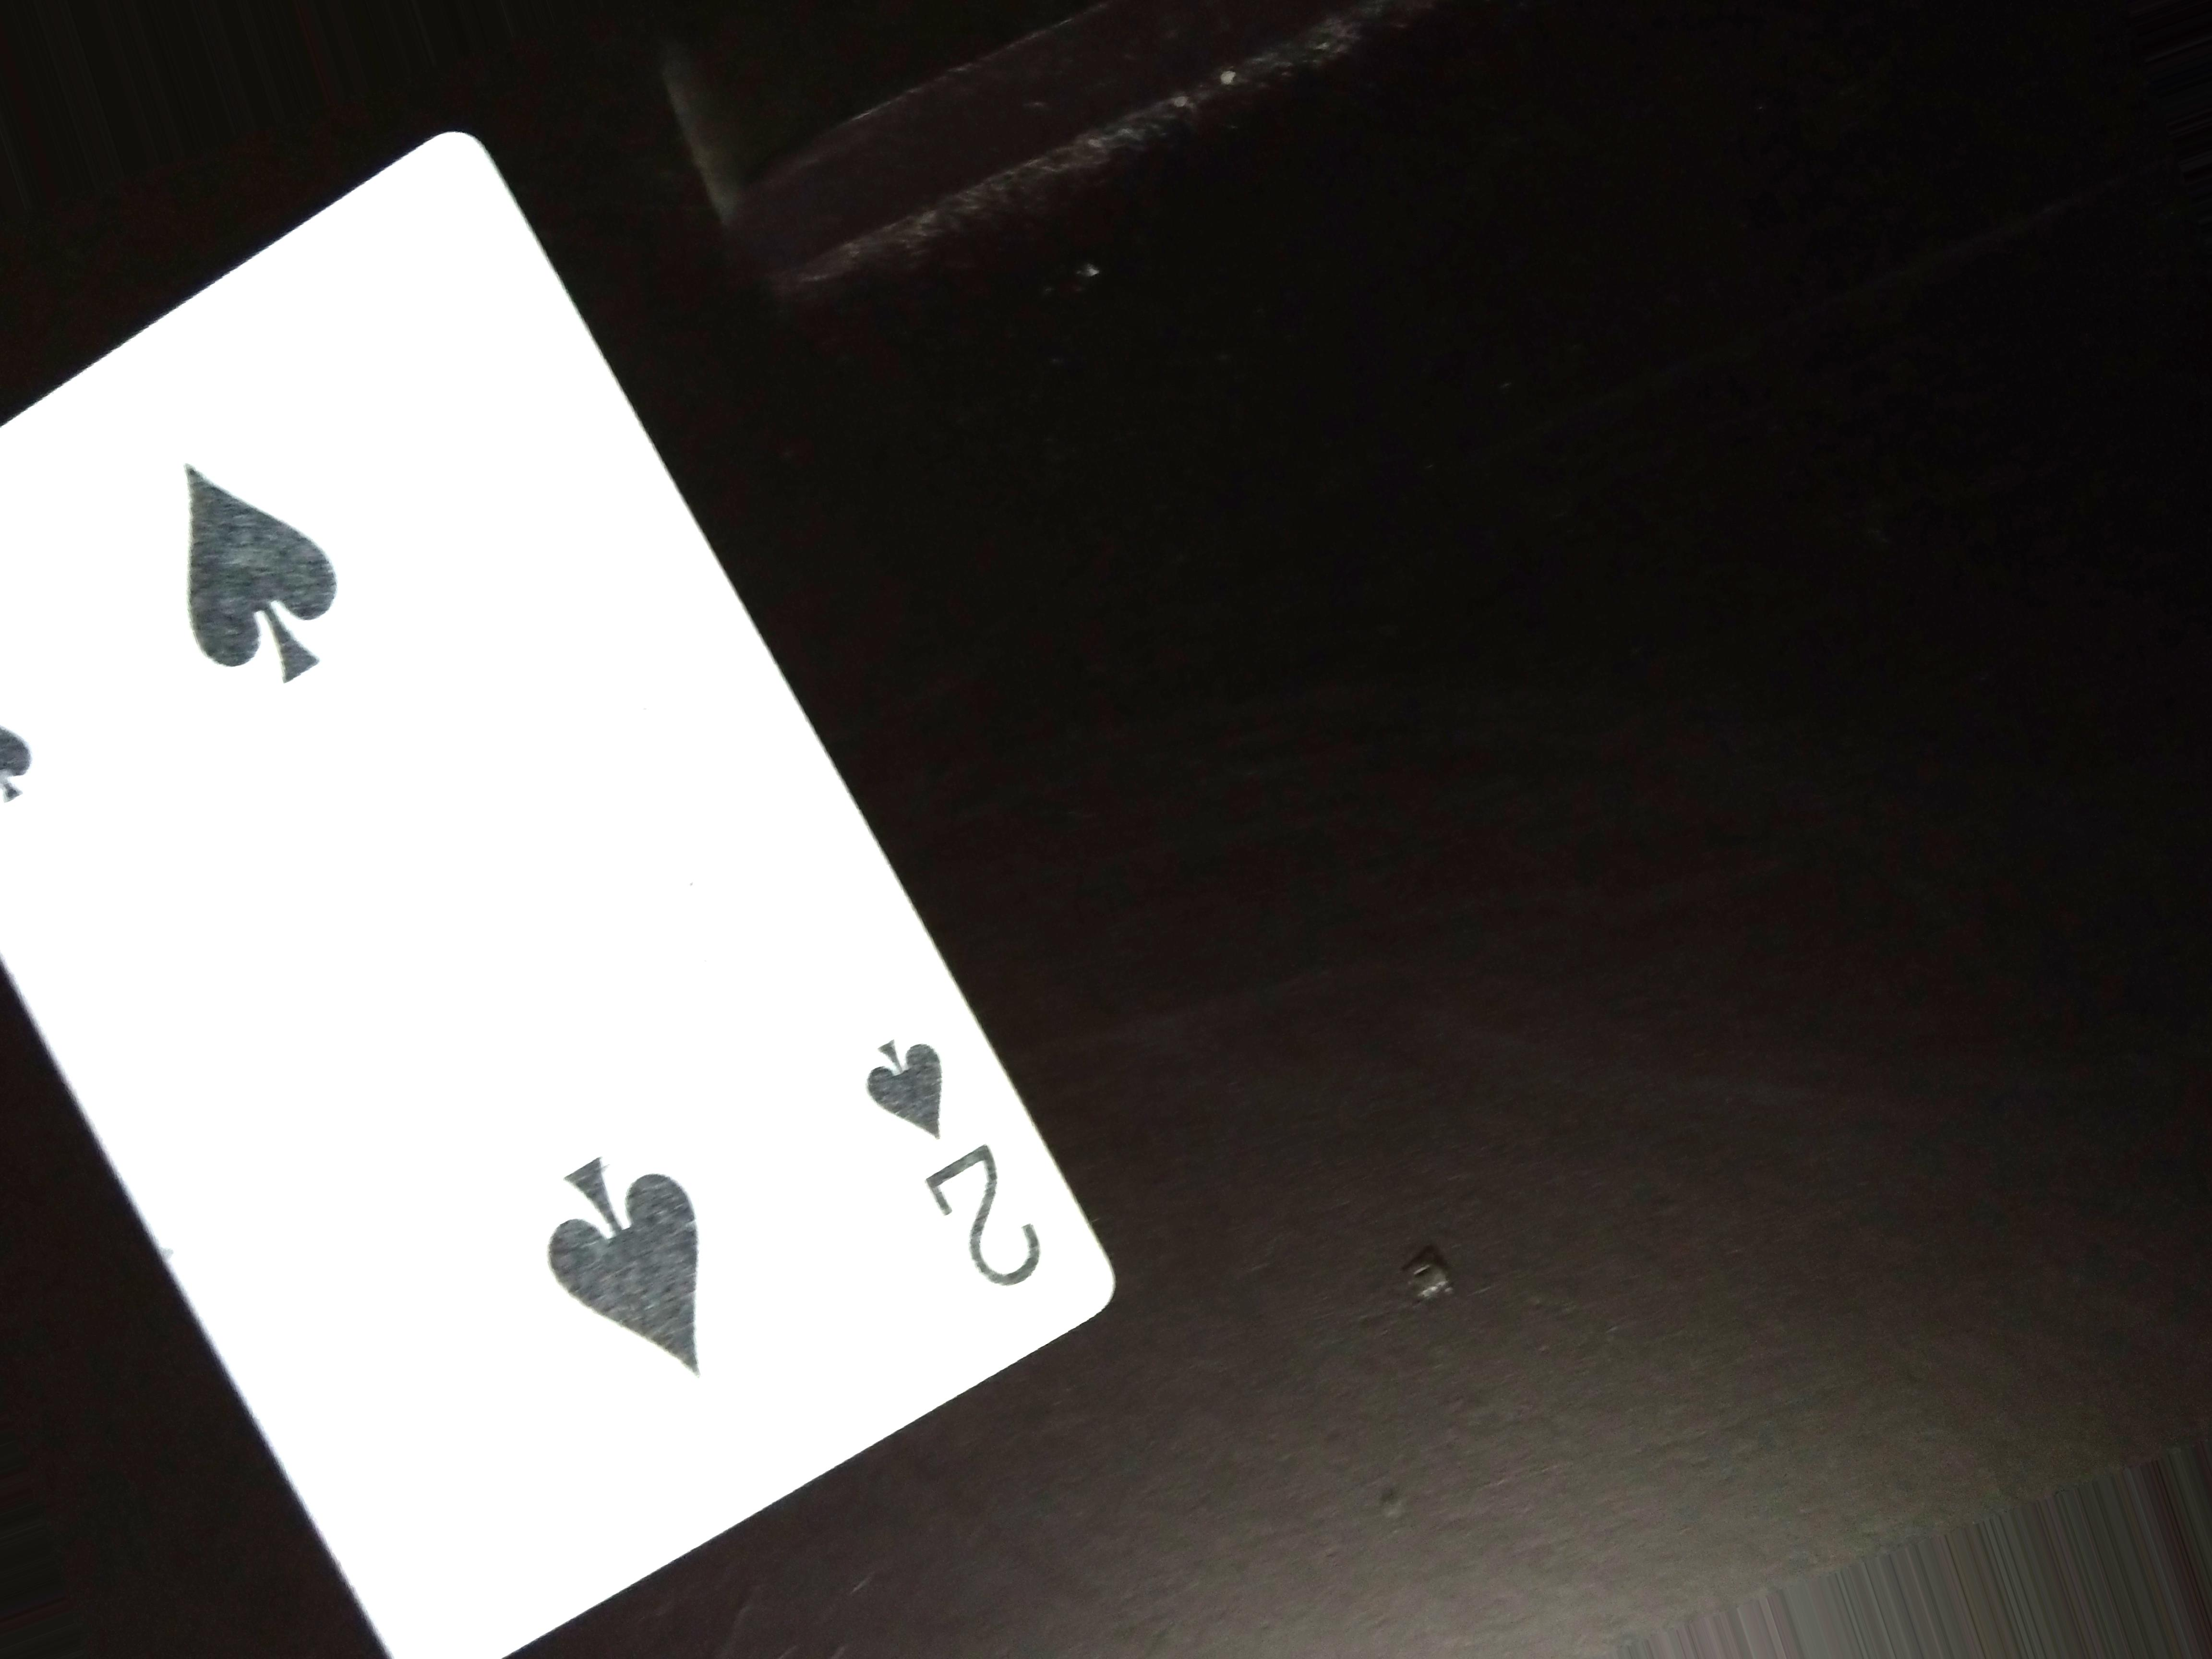2S: (840, 1030, 1066, 1300)
